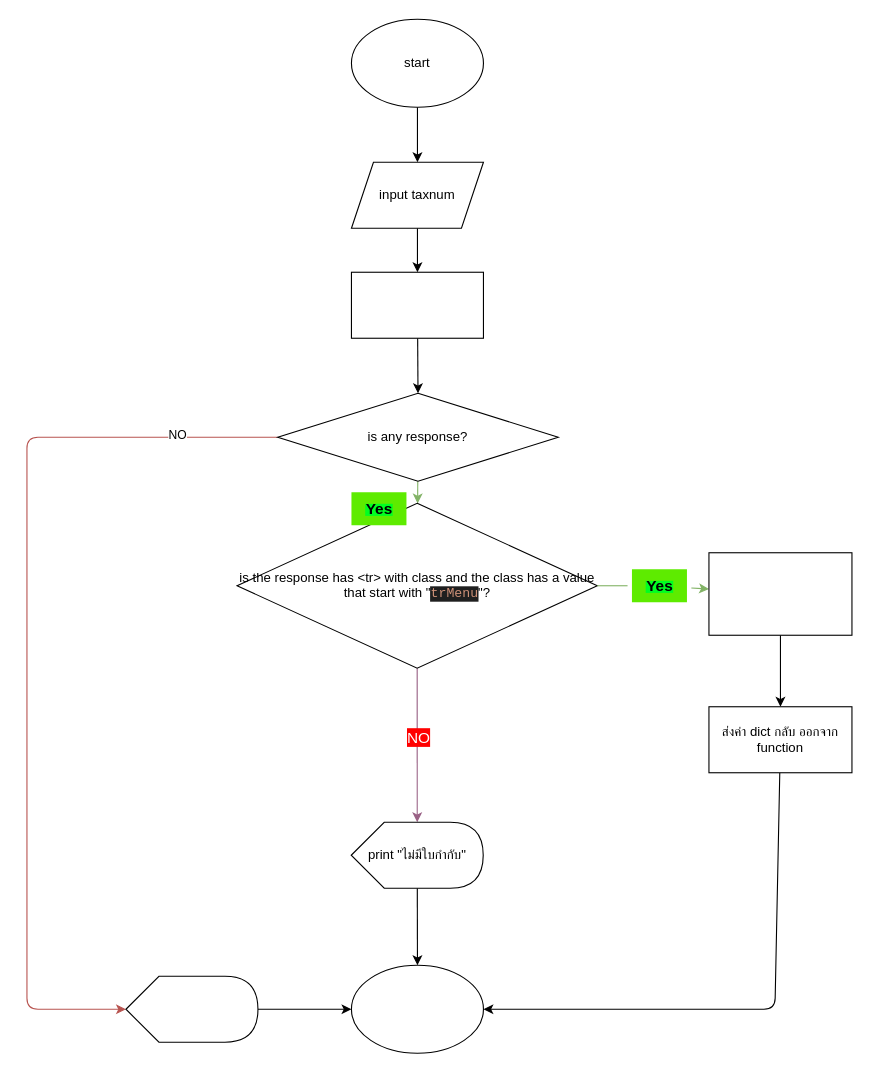
The diagram is 871 pixels wide and 1073 high, and some of its shapes have lost their labels. The centre of each missing label's shape, as x and y in pixels:
END: the point at 416,1008
print error: the point at 191,1008
นำ <tr> ที่ได้มาทั้งหมดมาสกัดเอาค่าออกมาด้วย bs4 แล้วเก็บเป็น dict: the point at 780,593
ส่ง POST REQ ด้วย Taxnum: the point at 416,304
